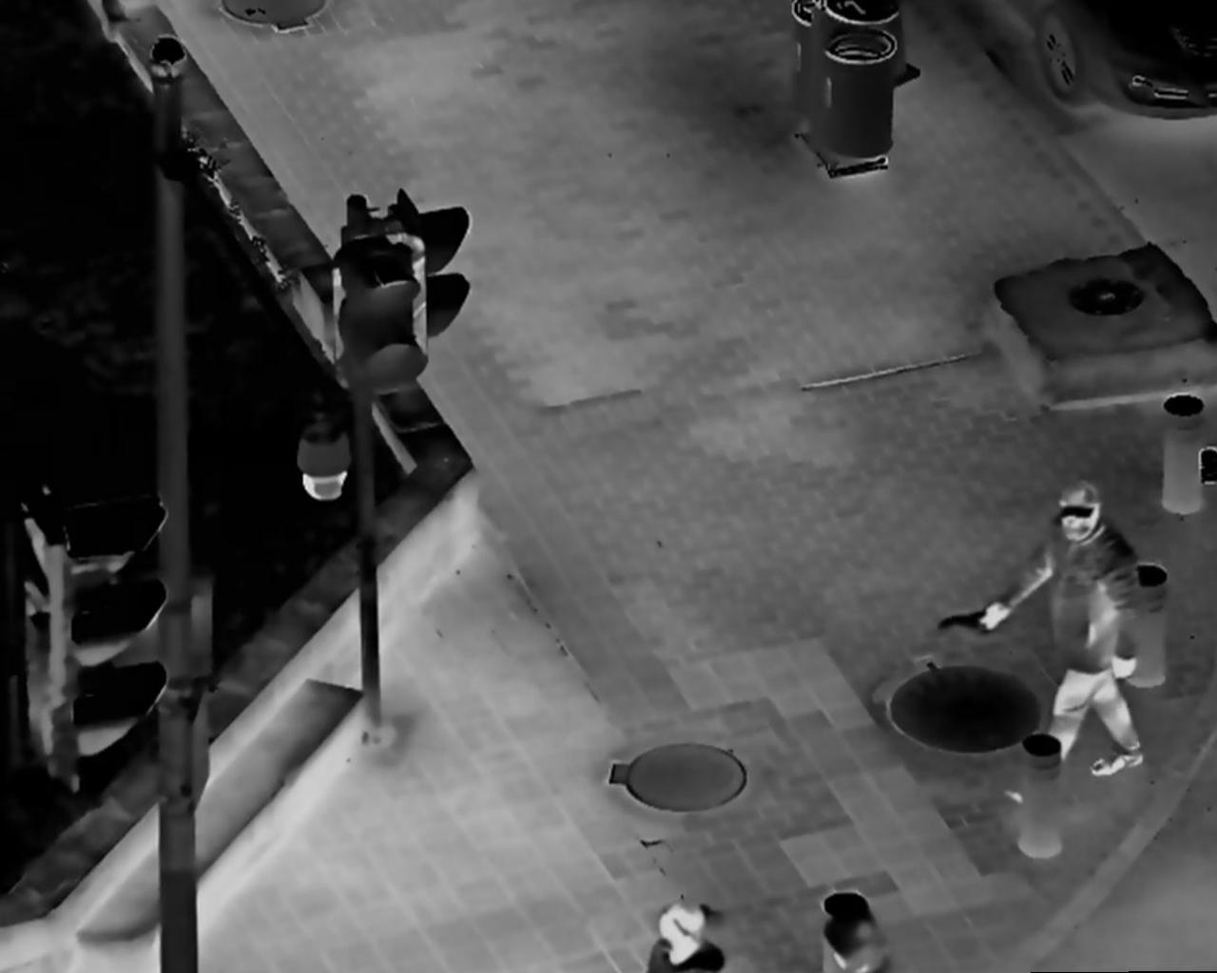person: (977, 482, 1149, 786), (794, 885, 900, 973), (627, 893, 730, 973)
